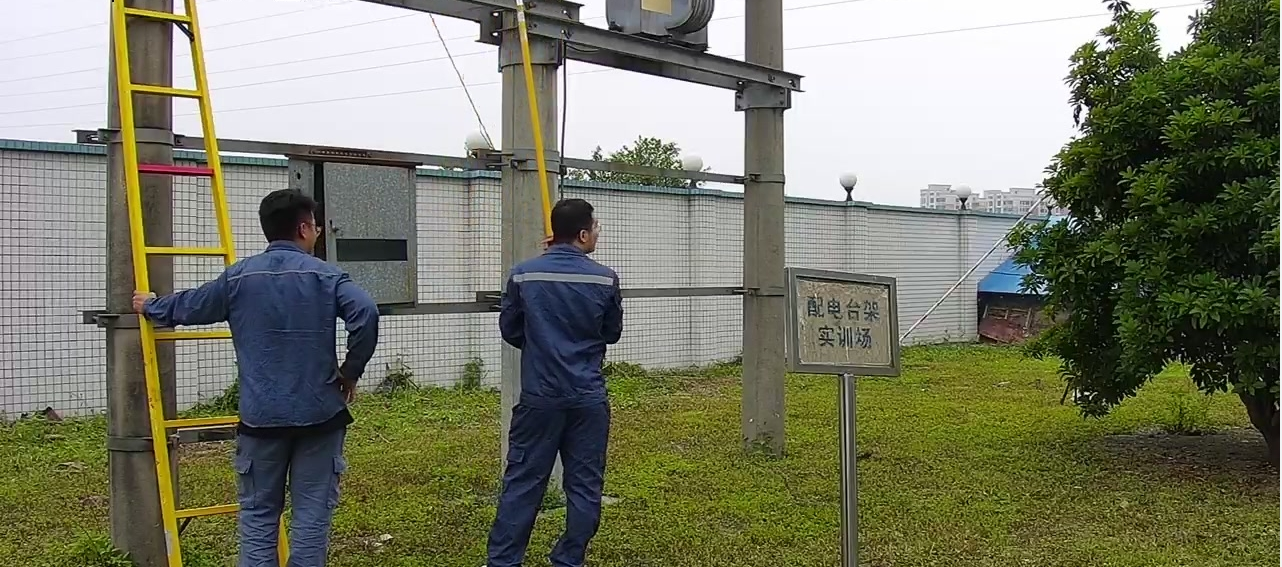安全帽、安全绳均未佩戴的工作人员: (130, 187, 382, 567)
未带安全帽的工作人员: (483, 195, 625, 566)
